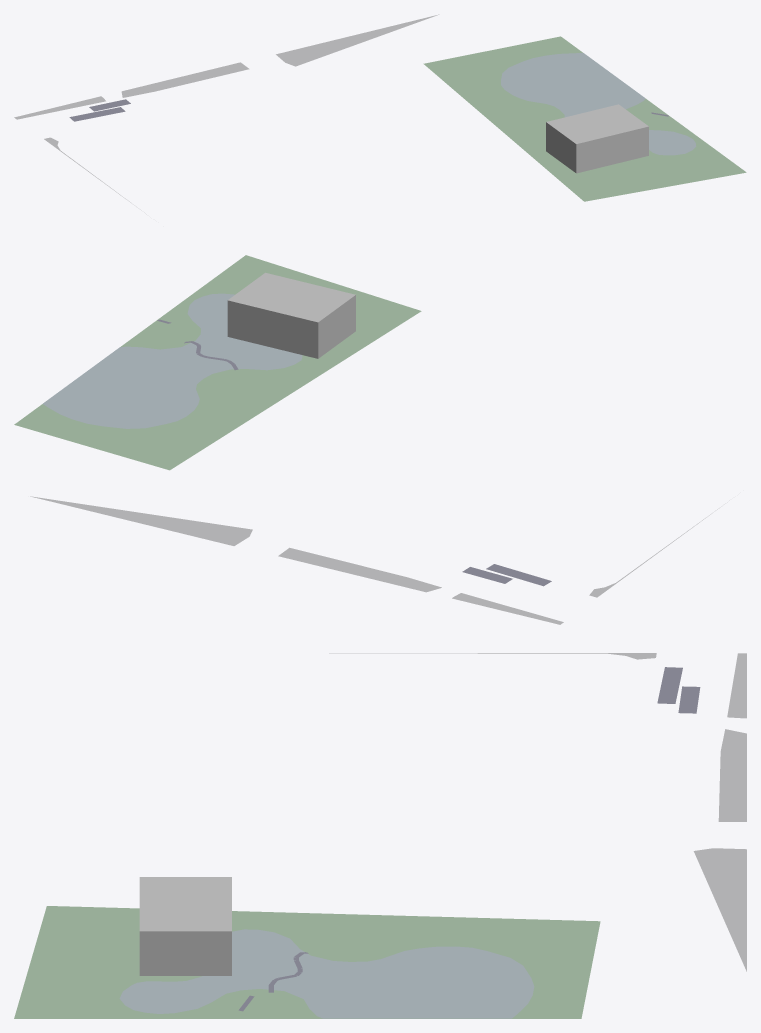
File: 144_108_mid.glb
The picture shows the model from 3 angles, top to bottom: view 1: azimuth 30°, elevation 25°; view 2: azimuth 150°, elevation 25°; view 3: azimuth 270°, elevation 25°; orthographic projection. The views are drawn at different scales.
Bounding box in the file's own units: 500 × 30.29 × 423.
